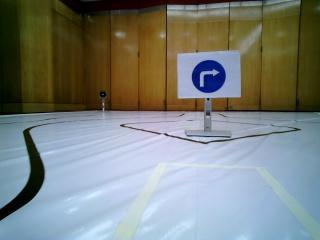right: (178, 54, 239, 96)
